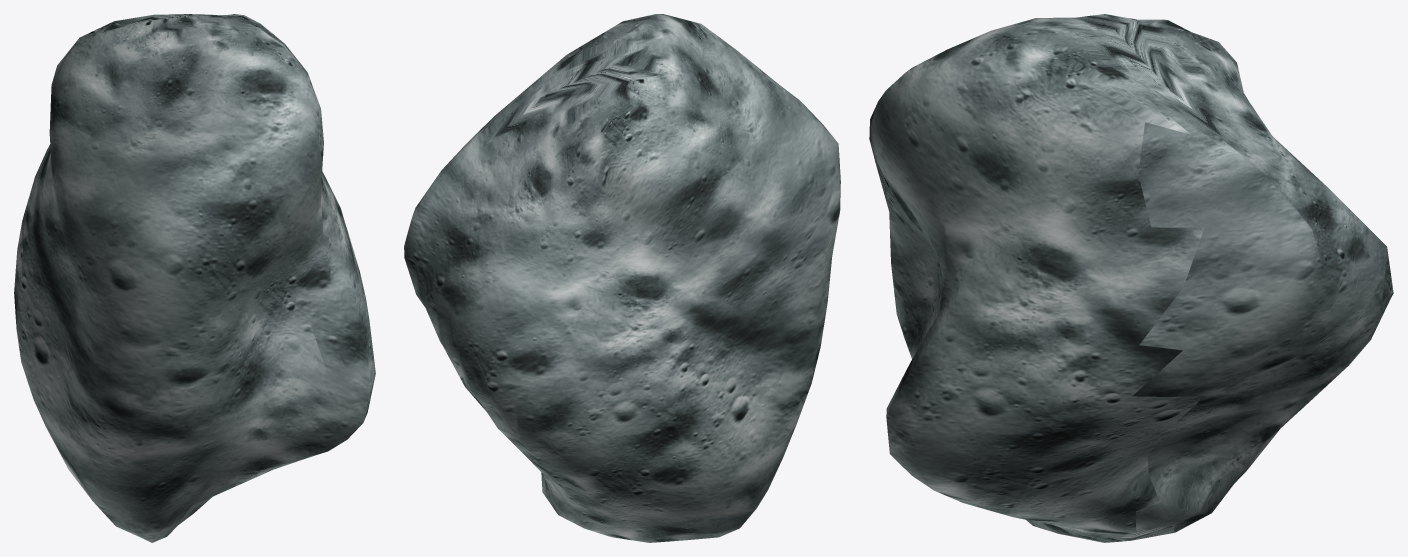
File: bigRock.FBX
3 views of the same model, side by side, from view 1: azimuth 30°, elevation 25°; view 2: azimuth 150°, elevation 25°; view 3: azimuth 270°, elevation 25° (orthographic). The views are drawn at different scales.
Parts seen in each view (by area): view 1: bigRock; view 2: bigRock; view 3: bigRock.
Boxes of the visible parts, x1,y1,x2,y2 form: bigRock: (14, 14, 375, 542); bigRock: (404, 14, 840, 542); bigRock: (869, 14, 1393, 542).
Bounding box in the file's own units: 18.16 × 28.5 × 24.93.
1 material, 1 textured.
